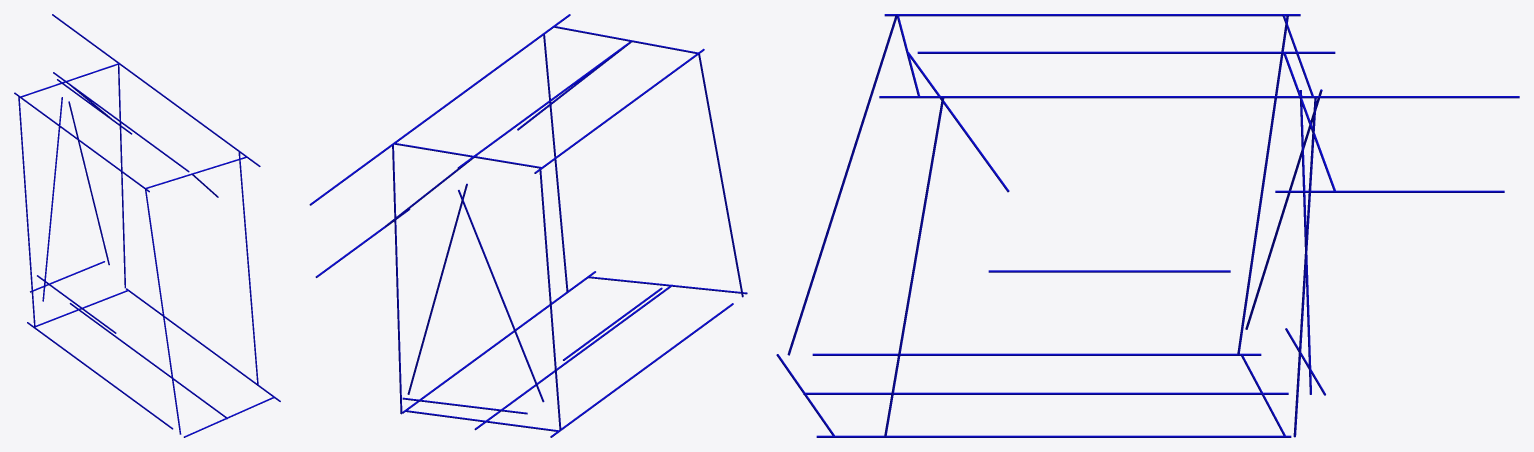
File: corrected_3d_strokes.glb
The picture shows the model from 3 angles, left to right: view 1: azimuth 30°, elevation 25°; view 2: azimuth 150°, elevation 25°; view 3: azimuth 270°, elevation 25°; orthographic projection. The views are drawn at different scales.
Visible parts, largest first — view 1: world; view 2: world; view 3: world.
Boxes of the visible parts, <box> form: world: <box>14,14,280,437</box>; world: <box>309,14,747,437</box>; world: <box>776,14,1519,437</box>.
Bounding box in the file's own units: 3.17 × 6.1 × 12.01.
